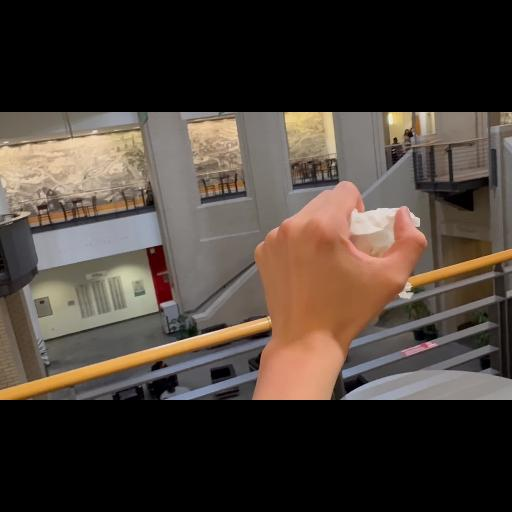napkin: (299, 206, 425, 304)
